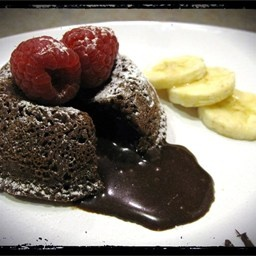background: (0, 10, 102, 93)
